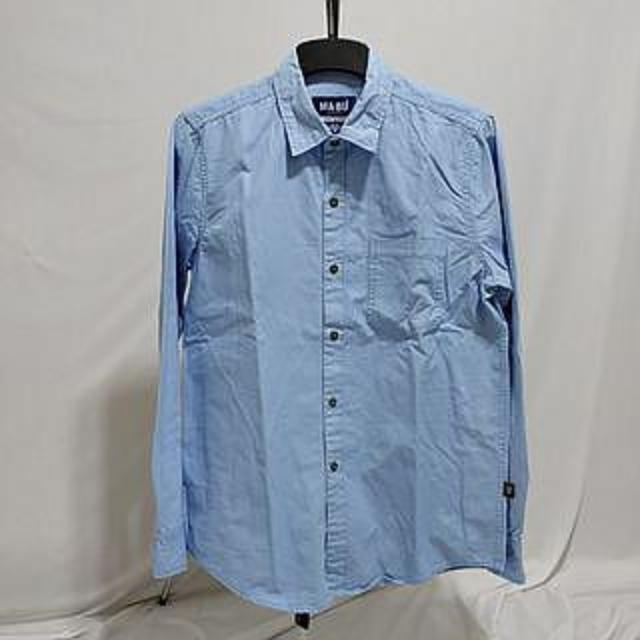SHIRT: (142, 27, 553, 616)
